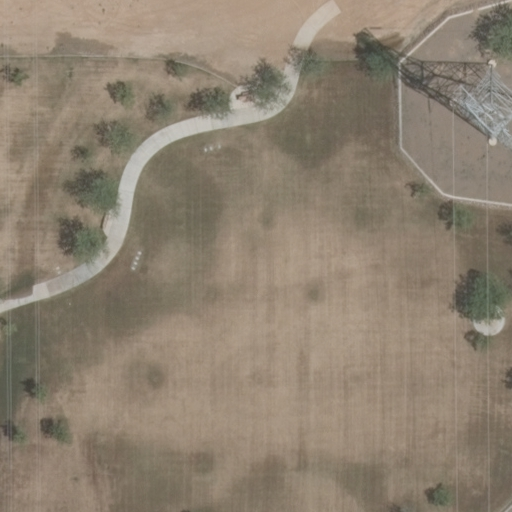TT: (463, 64, 512, 145)
